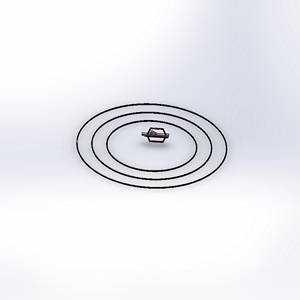circle: (74, 103, 231, 193)
submarine: (137, 124, 173, 152)
